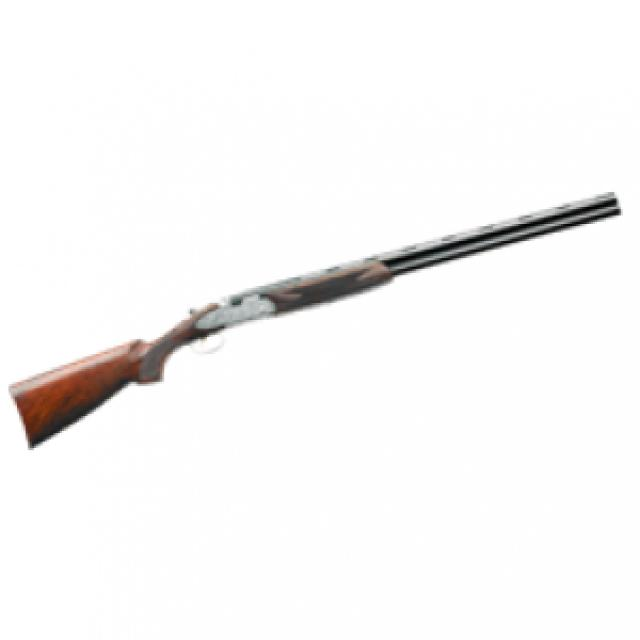rifle: (4, 187, 634, 461)
